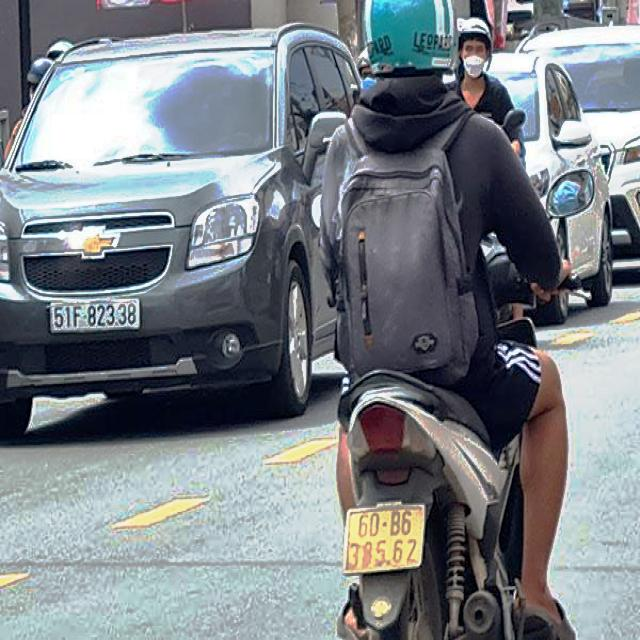license_plate: (345, 507, 423, 573), (50, 300, 142, 334)
